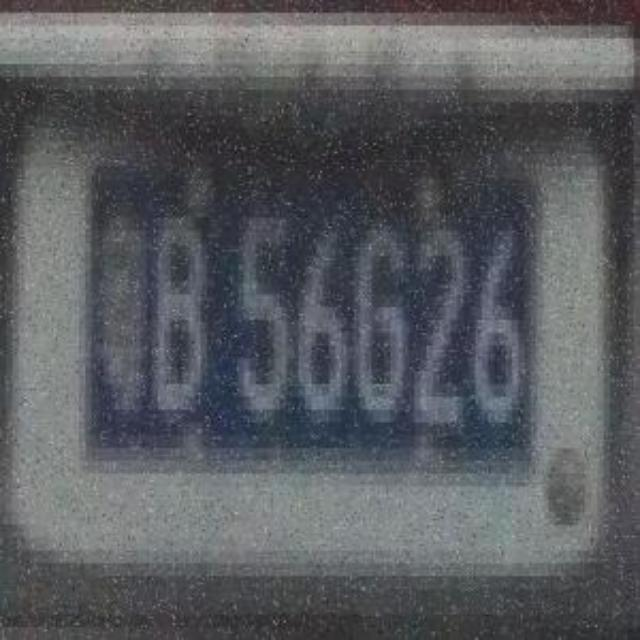License Plate: (92, 164, 536, 478)
